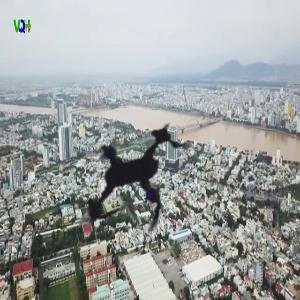drone: (15, 57, 252, 294)
